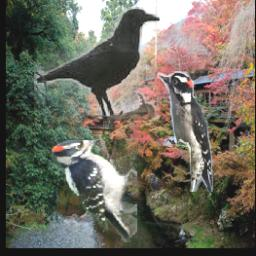Crow: (35, 8, 161, 122), (147, 173, 164, 199)
Woodpecker: (50, 135, 138, 243), (159, 71, 214, 192)
